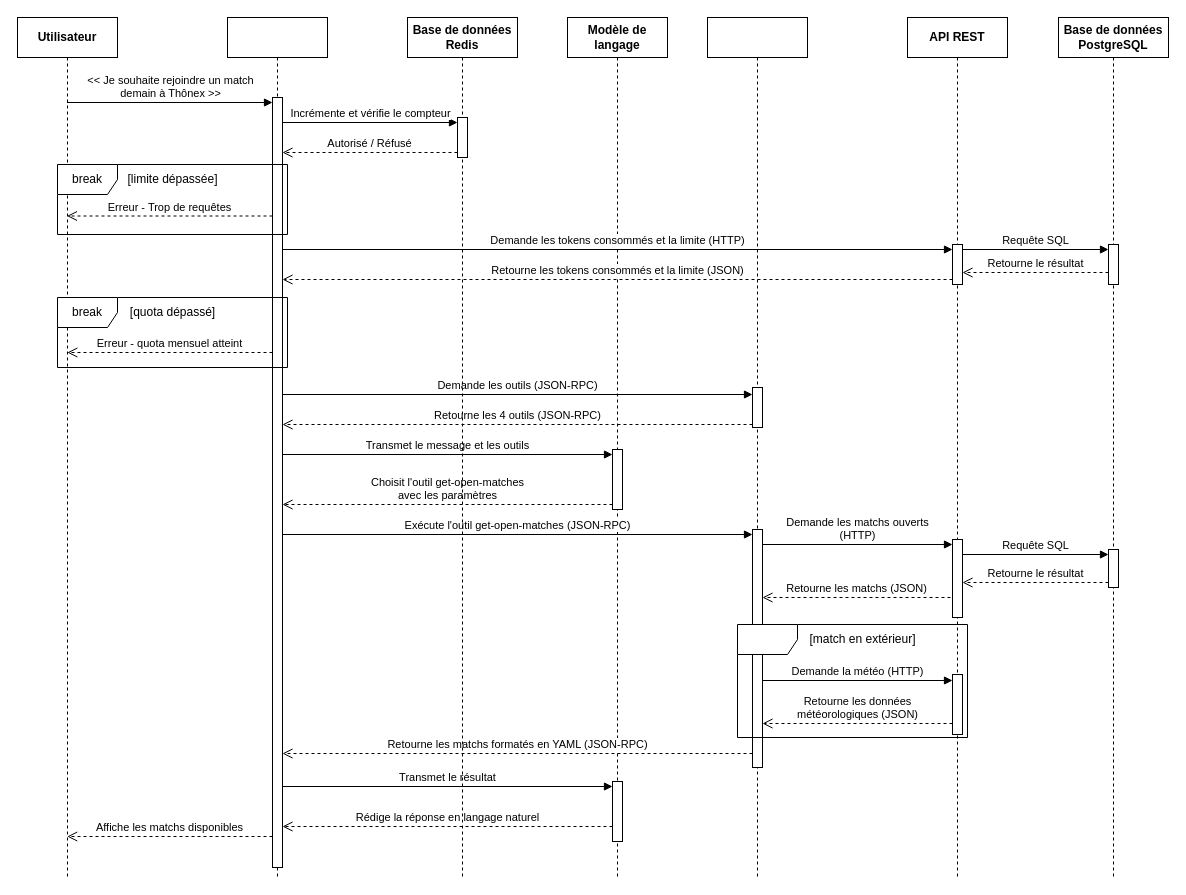
Some shapes in this 1186 by 895 pixel diagram are drawn without their labels. Each missing label, with the box of its shape:
Client MCP: (226, 16, 328, 878)
opt: (736, 624, 968, 738)
Serveur MCP: (706, 16, 808, 878)
